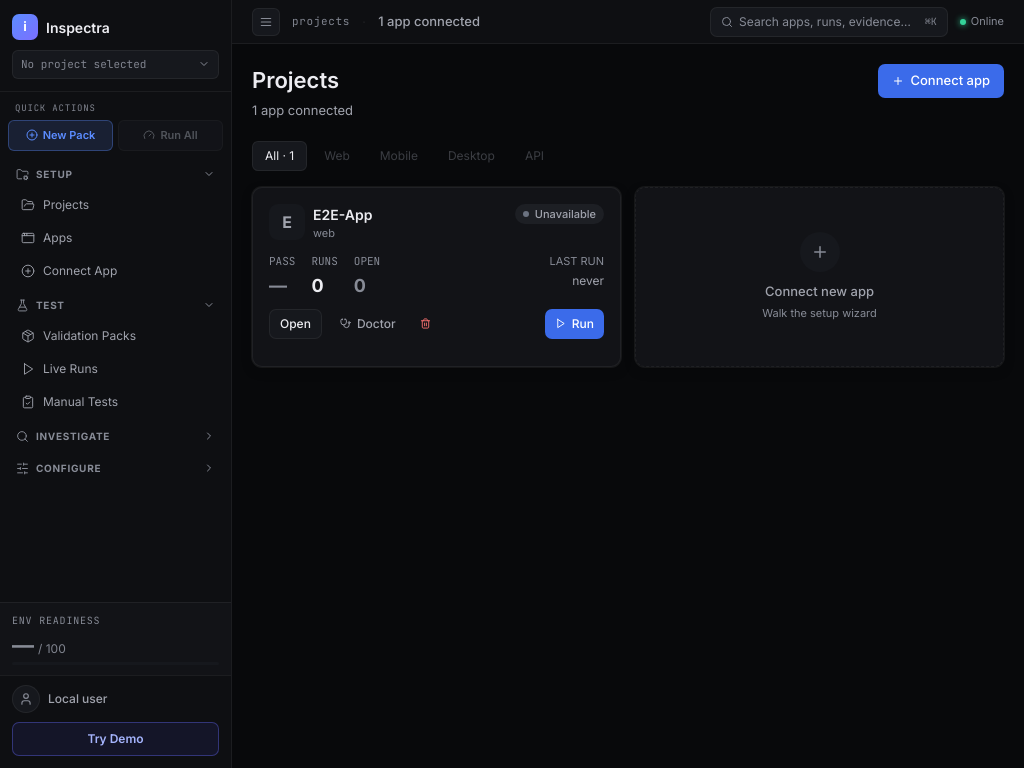
Test: ProjectsPage — run modal › Run button opens run modal
Expected: the button "Open" is shown, [269,308,322,338]
Step 1. Click the button "Run" → click(574, 324), box [545,308,604,338]
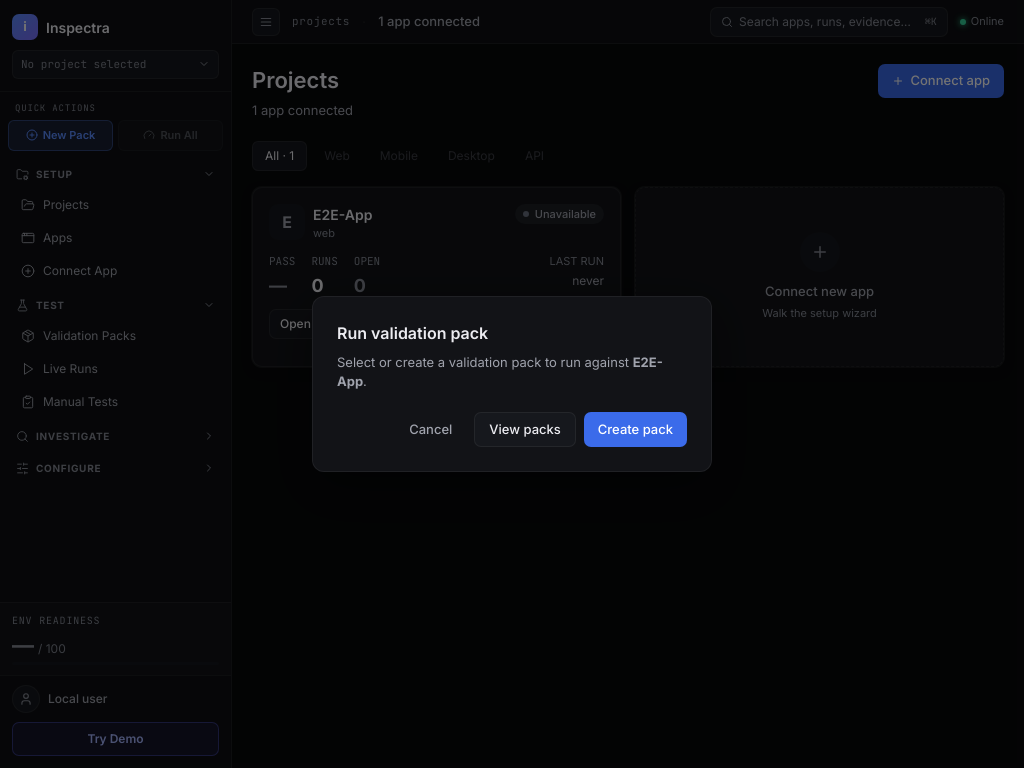
Expected: the element with test id "run-modal" is shown, [312,296,712,472]
Expected: the text "Select or create a validation pack to run against E2E-App." is shown, [337,353,687,392]
